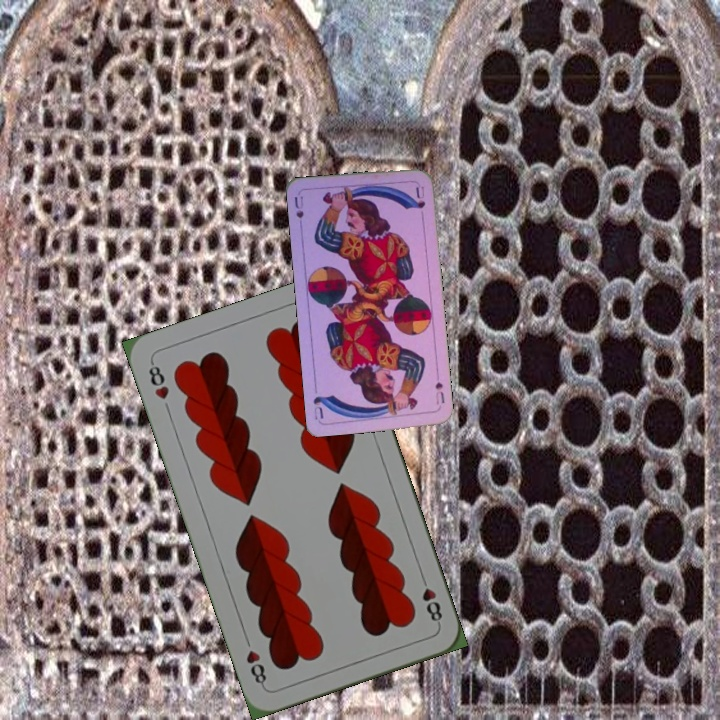H8: (416, 571, 445, 628), (144, 357, 172, 402)
SU: (290, 192, 306, 233), (431, 369, 447, 410)
